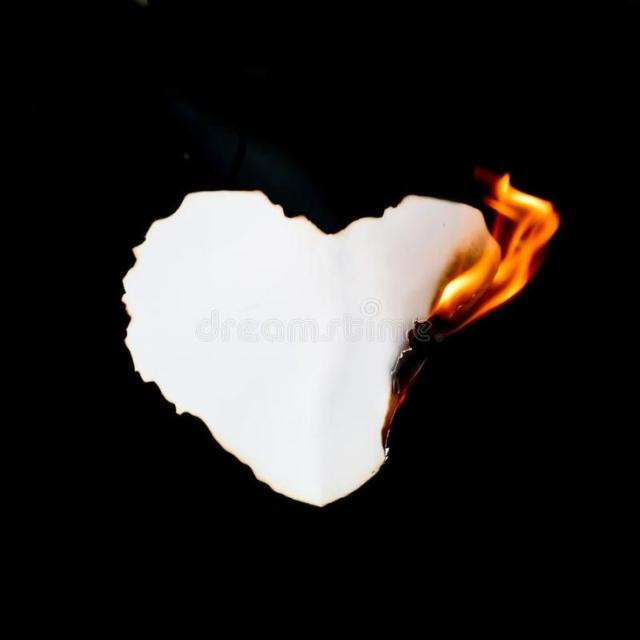fire: (432, 173, 561, 330)
